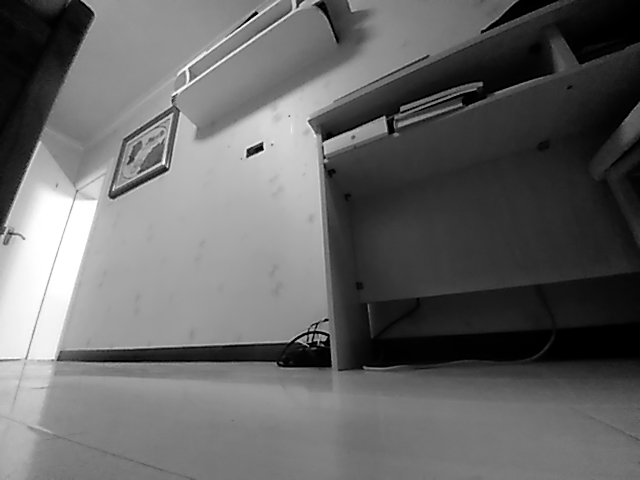wire: (361, 300, 558, 371), (275, 317, 332, 368)
